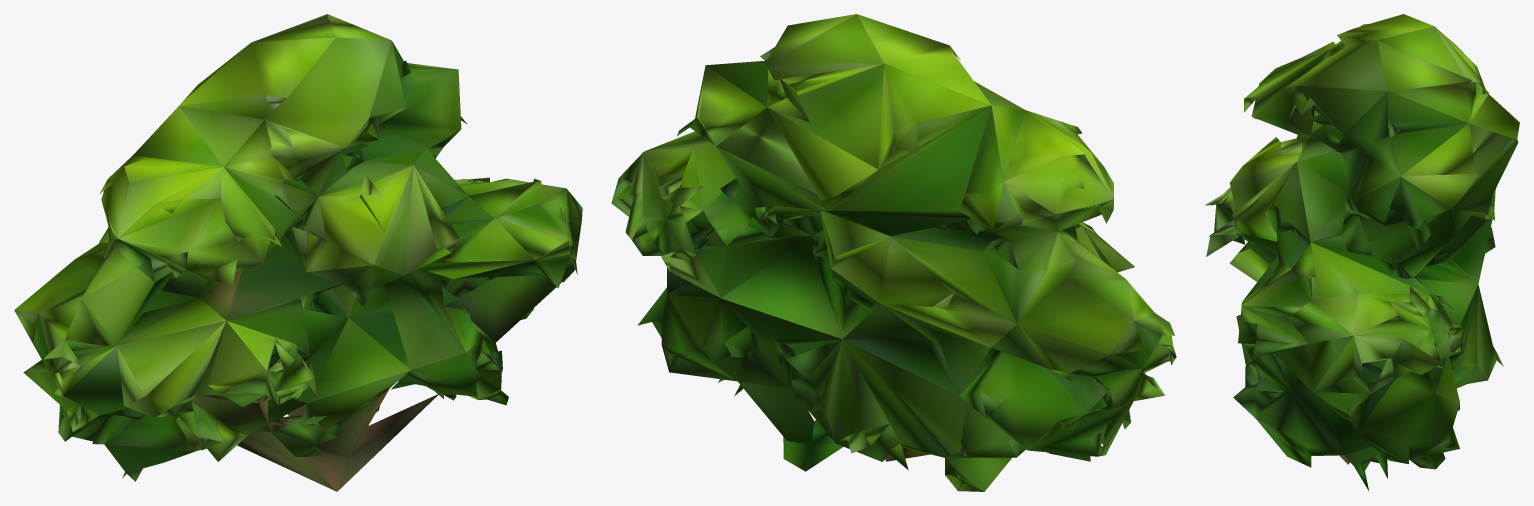
File: tree_far.glb
3 views of the same model, side by side, from view 1: azimuth 30°, elevation 25°; view 2: azimuth 150°, elevation 25°; view 3: azimuth 270°, elevation 25° (orthographic). The views are drawn at different scales.
Parts seen in each view (by area): view 1: tripo_node_f0255020-1b20-42a1-a3cf-9511cd33a957; view 2: tripo_node_f0255020-1b20-42a1-a3cf-9511cd33a957; view 3: tripo_node_f0255020-1b20-42a1-a3cf-9511cd33a957.
Boxes of the visible parts, x1,y1,x2,y2 form: tripo_node_f0255020-1b20-42a1-a3cf-9511cd33a957: (14,14,582,491); tripo_node_f0255020-1b20-42a1-a3cf-9511cd33a957: (611,14,1176,491); tripo_node_f0255020-1b20-42a1-a3cf-9511cd33a957: (1205,14,1519,491).
Size of the model in its own units: 11.56 by 9 by 5.96.
1 material, 1 textured.
